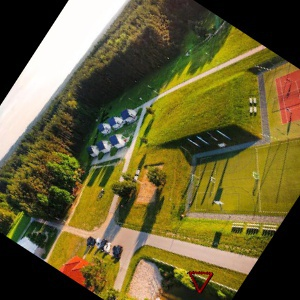triangle: (186, 268, 215, 296)
